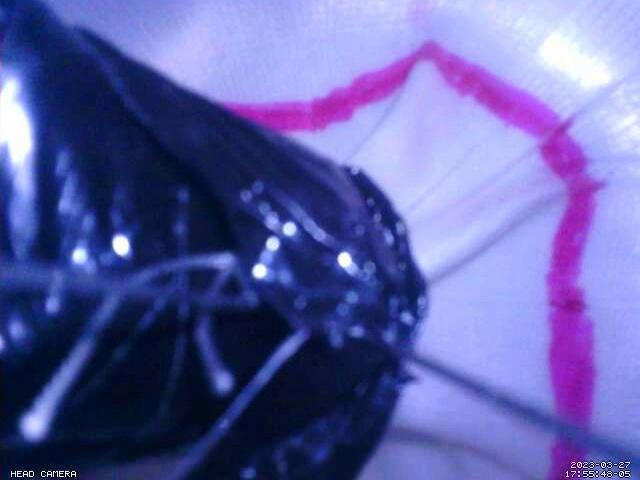red-circle: (221, 40, 598, 480)
